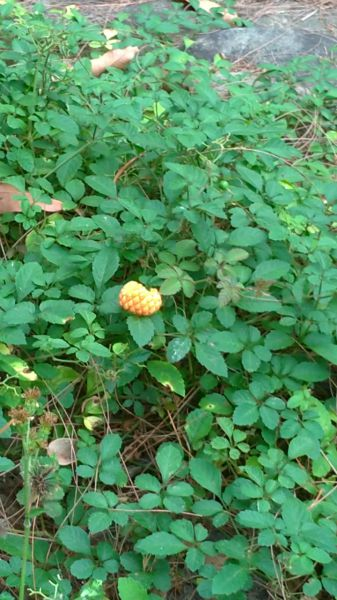eggs: (115, 274, 166, 324)
